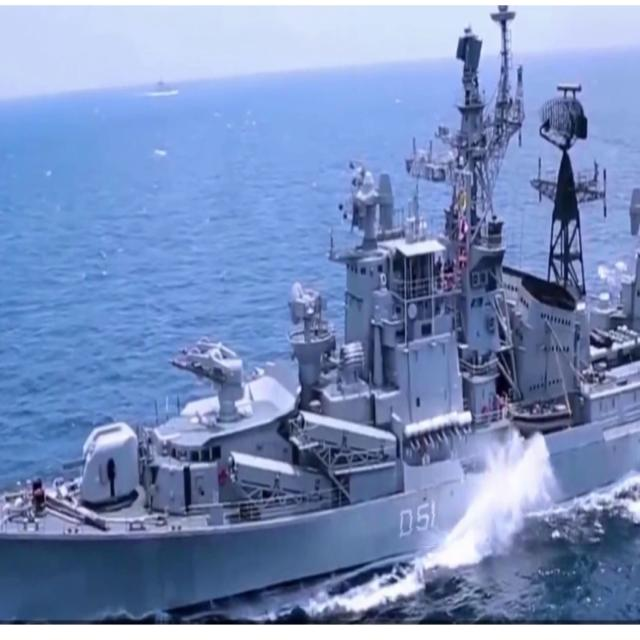OCR: (391, 498, 438, 548)
